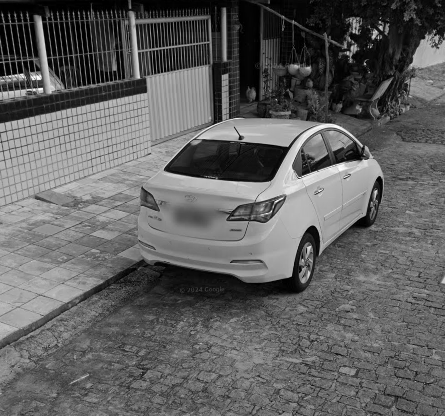car: (136, 115, 385, 296)
